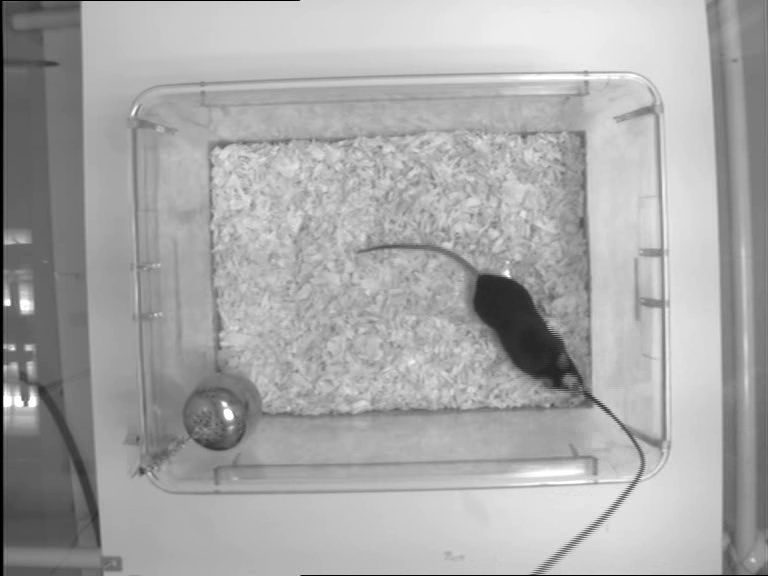mice: (351, 242, 591, 399)
